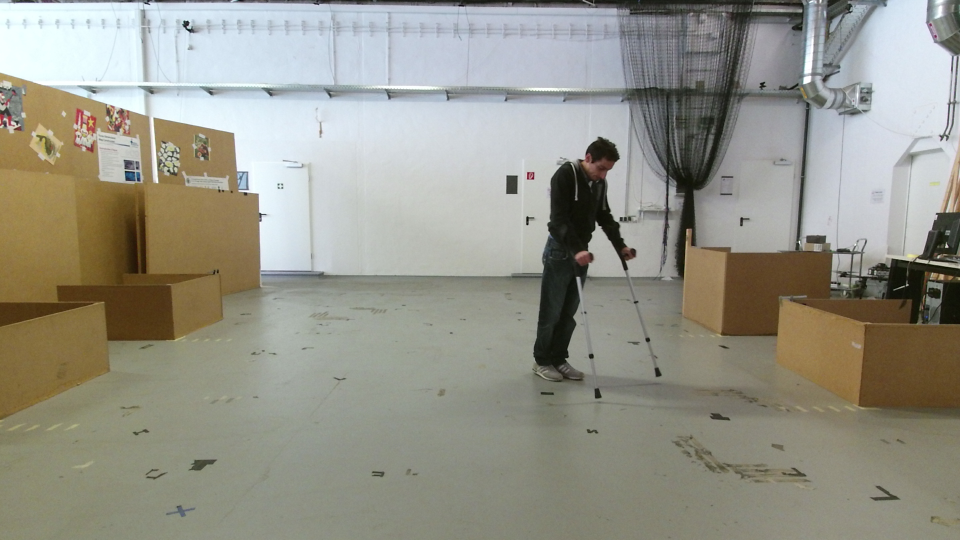crutches: (523, 134, 666, 398)
